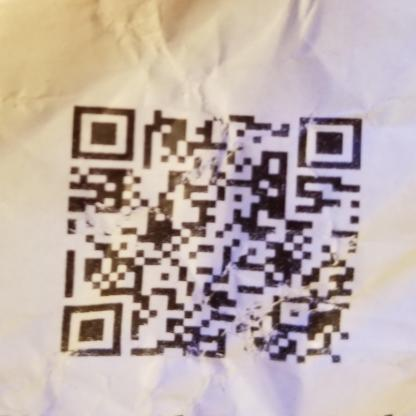qr: (55, 98, 366, 375)
